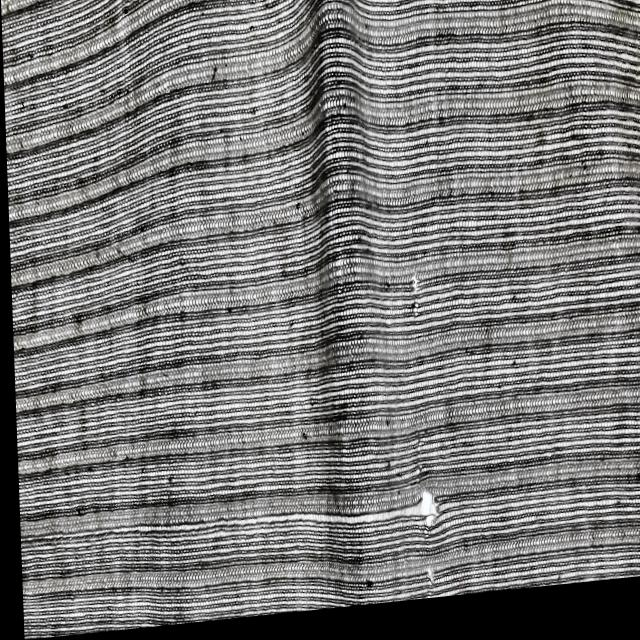Hole: (398, 274, 422, 332), (411, 571, 436, 608)
Stitch: (15, 486, 440, 592)
